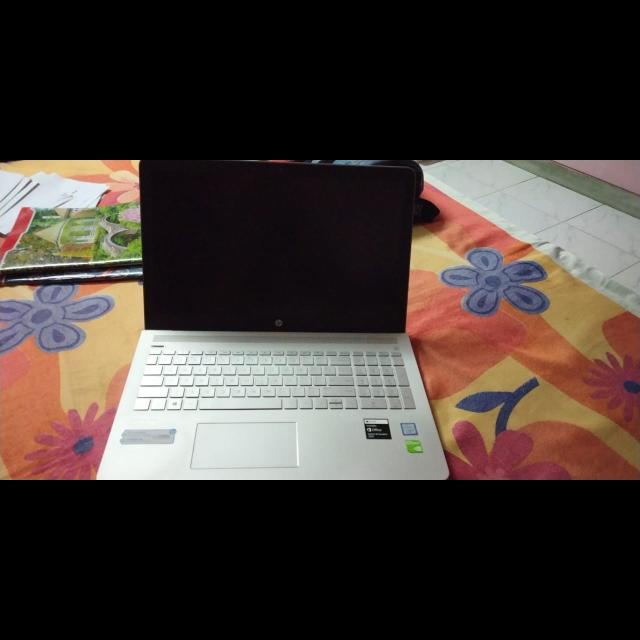Laptop: (87, 161, 451, 479)
